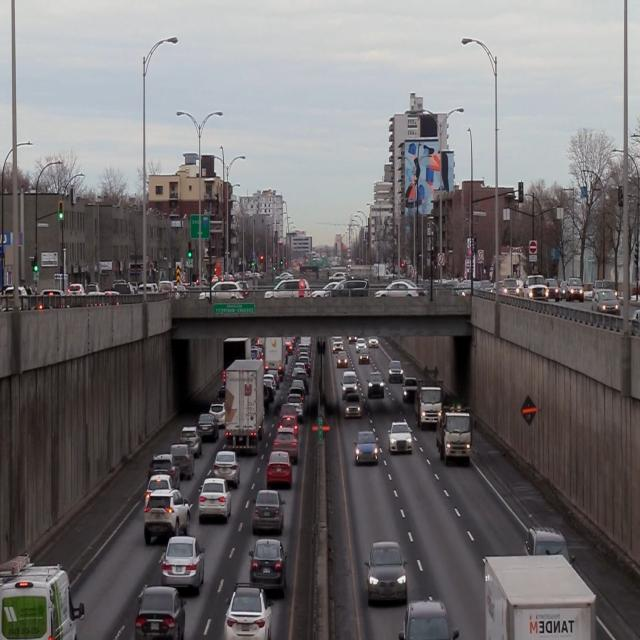Vehicle: (222, 359, 265, 453), (362, 540, 409, 608), (134, 584, 187, 640), (221, 584, 273, 640), (159, 536, 206, 592), (437, 405, 476, 469), (143, 491, 189, 544), (248, 537, 288, 593), (412, 370, 443, 429), (198, 479, 232, 525), (251, 490, 284, 534), (264, 450, 291, 490), (146, 456, 179, 488), (352, 428, 379, 466), (213, 450, 240, 488), (388, 420, 413, 457), (170, 443, 194, 478), (178, 424, 202, 458), (345, 392, 362, 420)
